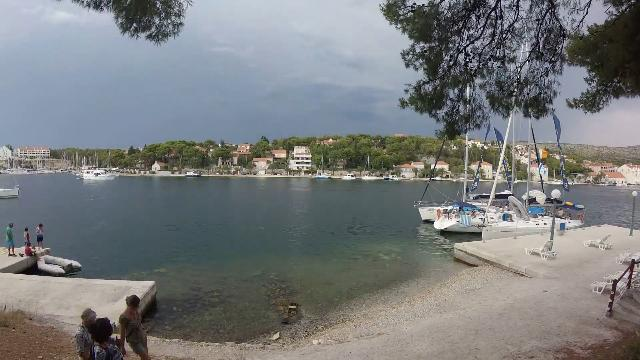ferry: (80, 168, 120, 184)
